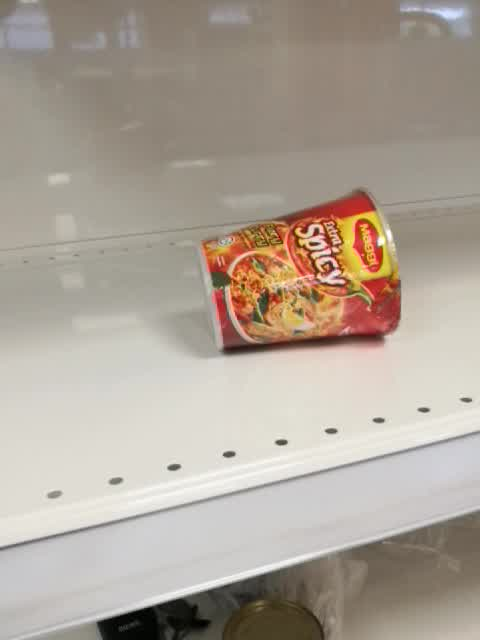maggi: (194, 186, 403, 354)
